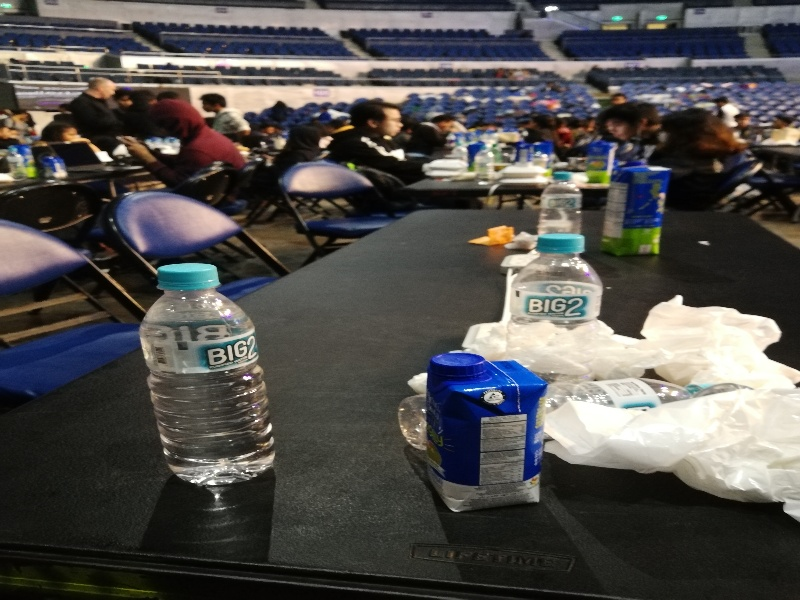PET #1: (138, 258, 278, 492), (506, 231, 606, 333), (540, 168, 585, 240)
